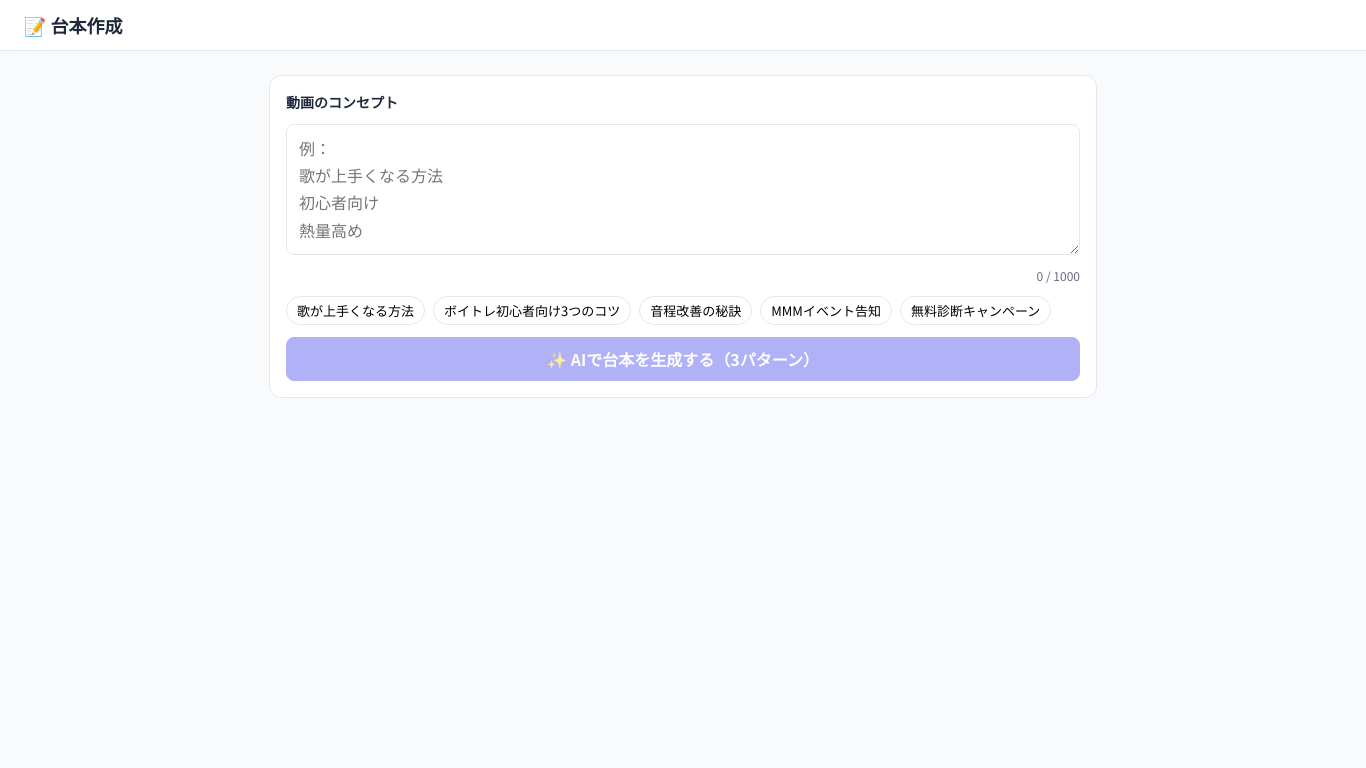
Test: ScriptMode › 生成成功: 3パターンを表示し、トリム済みコンセプトを /api/generate-script へ送る
Type "  歌が上手くなる方法  " into the text box labelled "動画のコンセプト" at (683, 189), box [286,124,1080,255]
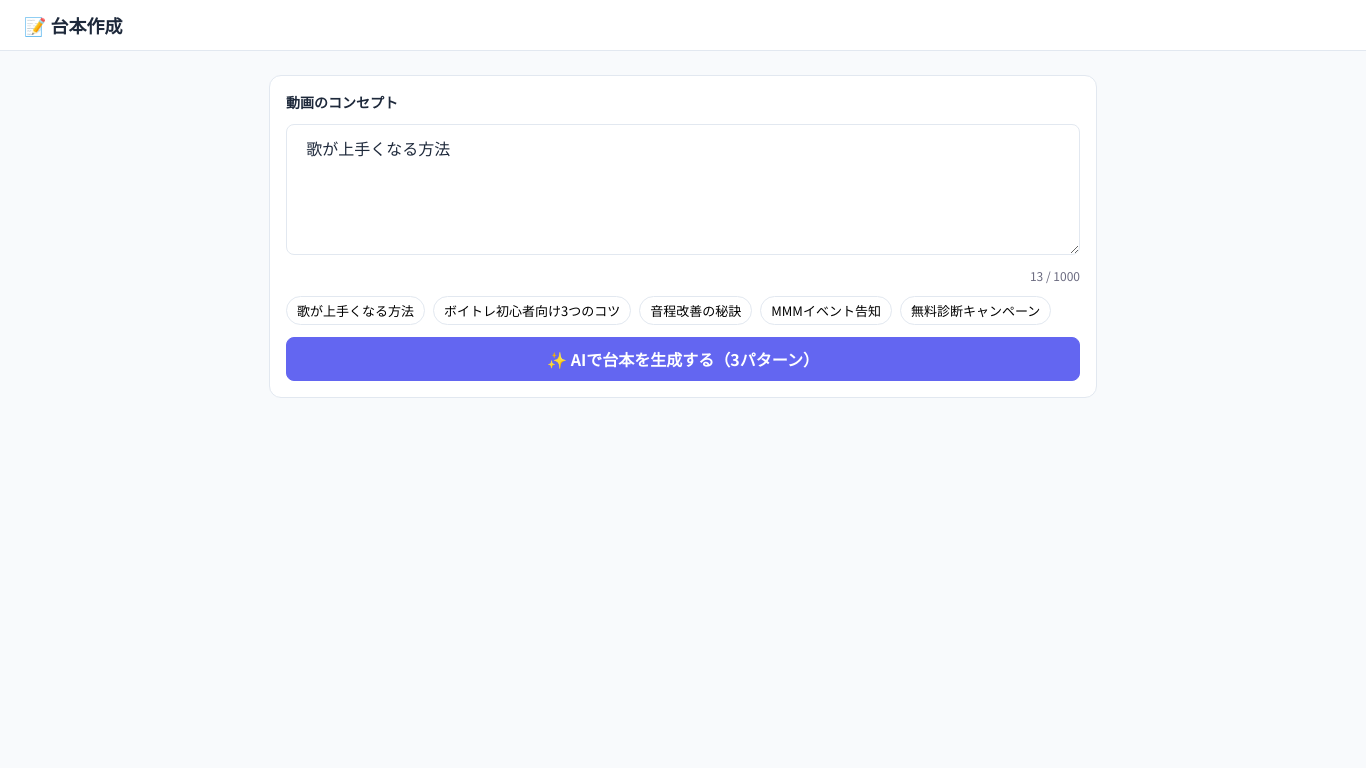
Click the button "✨ AIで台本を生成する（3パターン）" at (683, 359), box [286,337,1080,381]
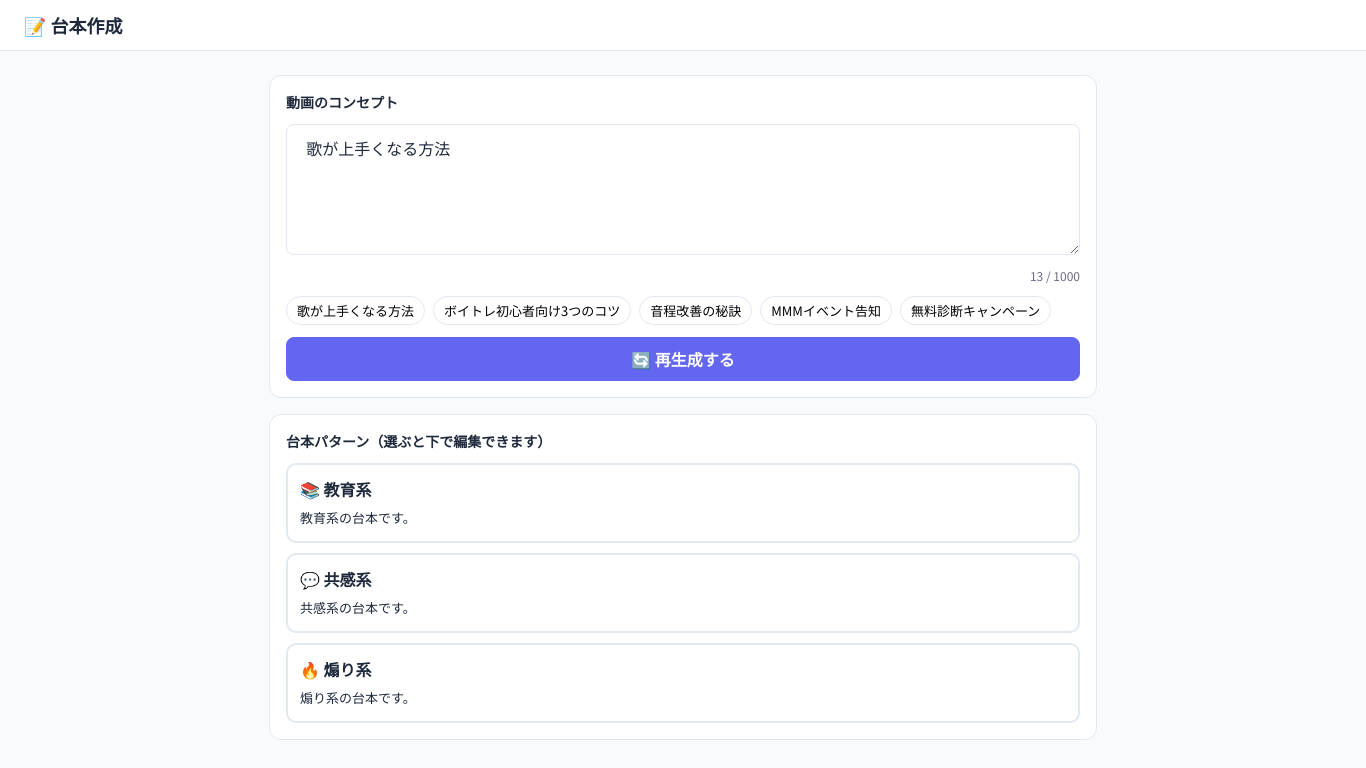
expect the element named "台本パターン" is shown: met, box [286,463,1080,723]
expect the number of radio buttons is 3: met, box [286,463,1080,543]; [286,553,1080,633]; [286,643,1080,723]
expect the text "教育系の台本です。" is shown: met, box [300,507,416,529]
